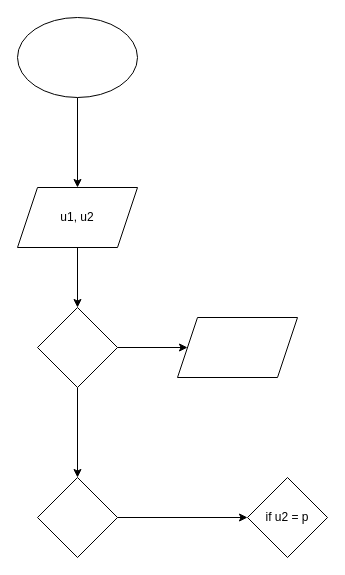
Image size: 345x575. Some labels were removed from this diagram. Here are the shapes that lost their labels. From the top down, the centre of each, then its label:
At pixel 77 347: "if u1 = u2".
At pixel 77 517: "if u1 = r".
